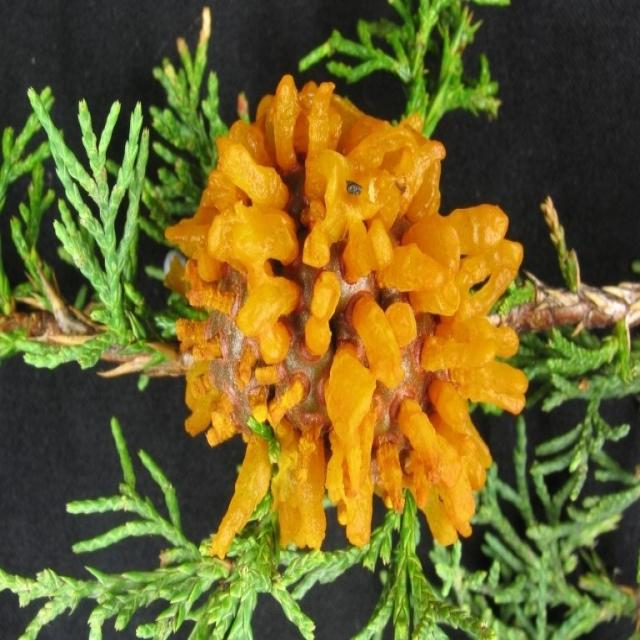Gymnosporangium_Rusts: (163, 72, 529, 560)
